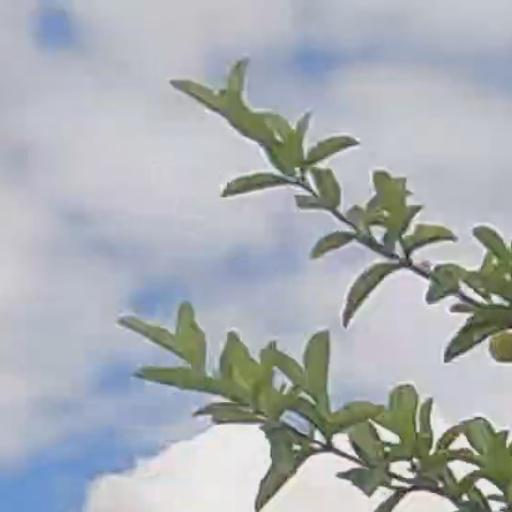acerola: (489, 332, 512, 361)
